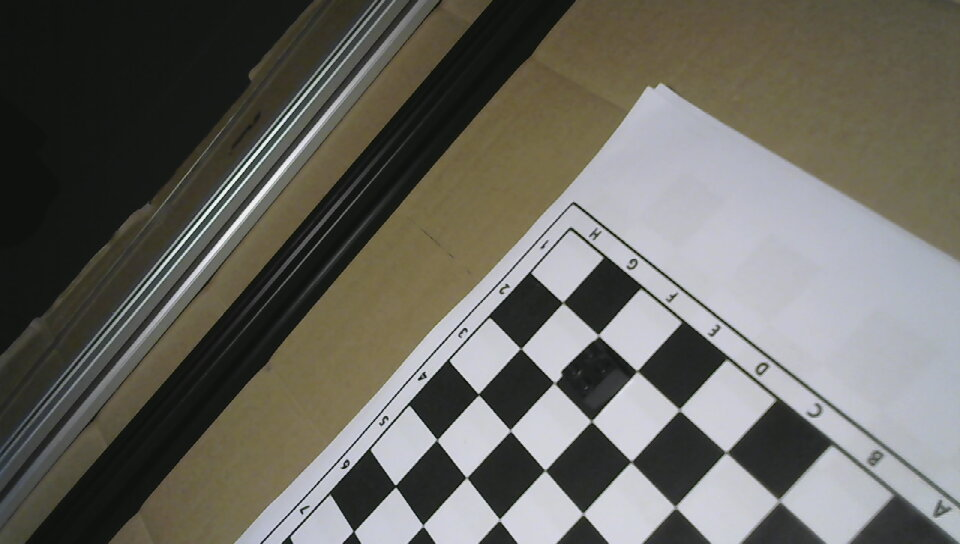bp: (555, 337, 630, 416)
